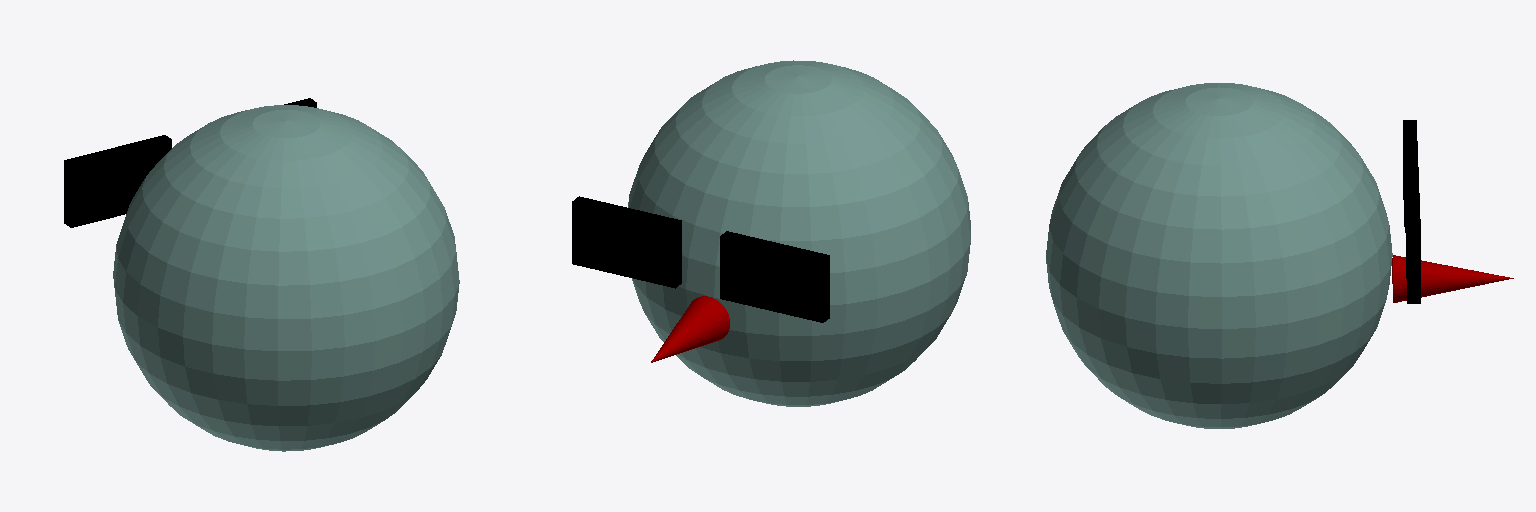
File: head001.obj
3 renders of one model, left to right at view 1: azimuth 30°, elevation 25°; view 2: azimuth 150°, elevation 25°; view 3: azimuth 270°, elevation 25°, orthographic.
Parts seen in each view (by area): view 1: Sphere, Cube.001_Cube.002; view 2: Sphere, Cube.001_Cube.002, Cube_Cube.001, Cone; view 3: Sphere, Cone, Cube_Cube.001, Cube.001_Cube.002.
Part boxes in pixels (x1,y1,x2,y2): Sphere: (113,105,459,451); Cube.001_Cube.002: (64,135,171,227); Sphere: (628,60,970,406); Cube.001_Cube.002: (720,231,829,322); Cube_Cube.001: (572,196,681,288); Cone: (651,296,729,362); Sphere: (1046,83,1392,428); Cone: (1392,255,1513,302); Cube_Cube.001: (1406,191,1420,303); Cube.001_Cube.002: (1403,120,1418,232).
Bounding box in the file's own units: 2 × 2 × 2.7.